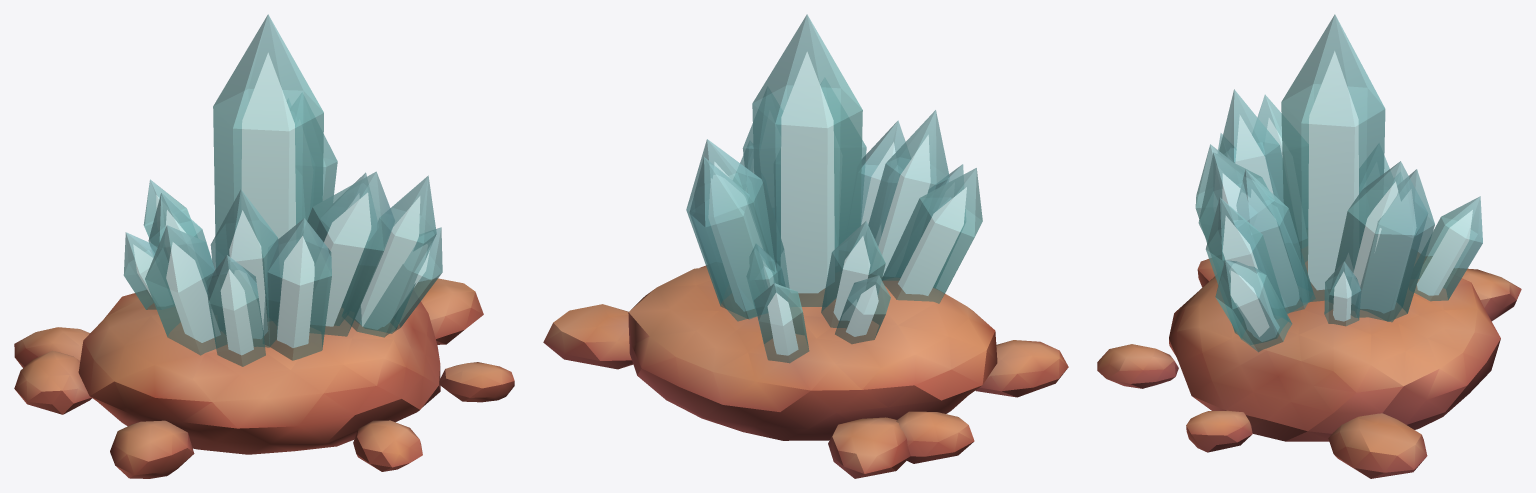
File: amber_crystal_landmark.glb
3 renders of one model, left to right at view 1: azimuth 30°, elevation 25°; view 2: azimuth 150°, elevation 25°; view 3: azimuth 270°, elevation 25°, orthographic. The views are drawn at different scales.
Visible parts, largest first — view 1: amber_crystal_landmark; view 2: amber_crystal_landmark; view 3: amber_crystal_landmark.
Part boxes in pixels (bbox=[...]): amber_crystal_landmark: bbox=[14, 14, 514, 478]; amber_crystal_landmark: bbox=[543, 14, 1068, 478]; amber_crystal_landmark: bbox=[1097, 14, 1521, 478].
Bounding box in the file's own units: 14.56 × 11.88 × 12.61.
